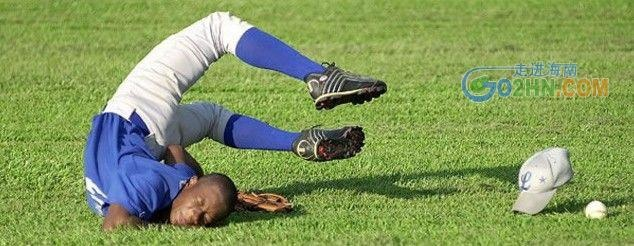falling: (56, 8, 379, 232)
